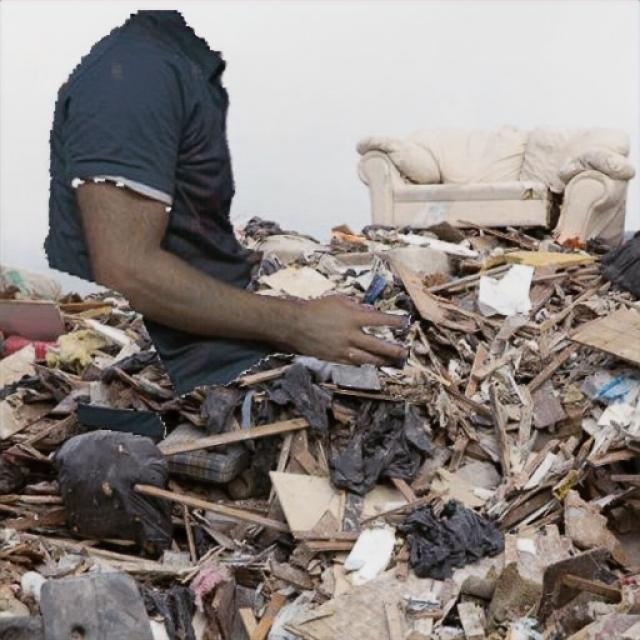Person in Rubble: (42, 10, 410, 439)
